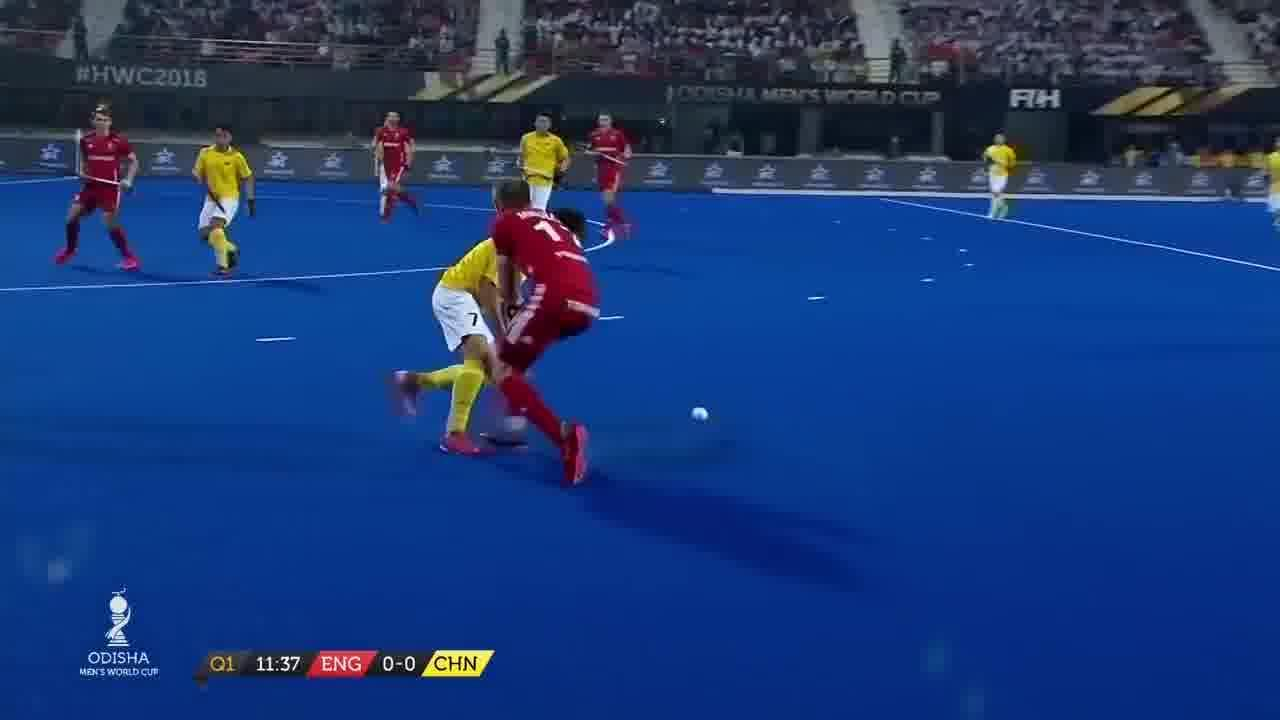ball: (681, 401, 722, 430)
